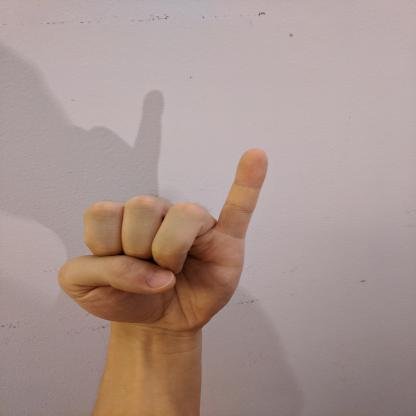I: (52, 145, 272, 333)
